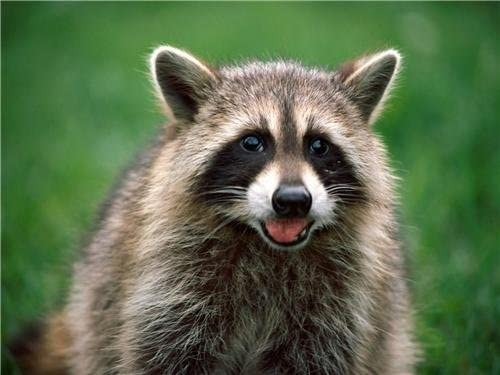Animal: (221, 119, 355, 255)
